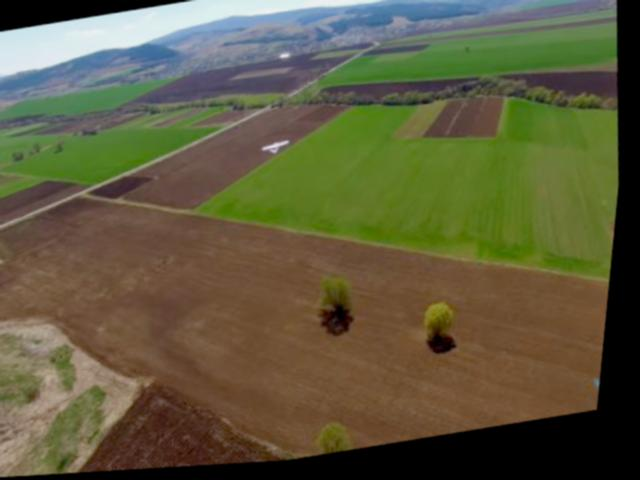uav: (255, 132, 298, 165)
